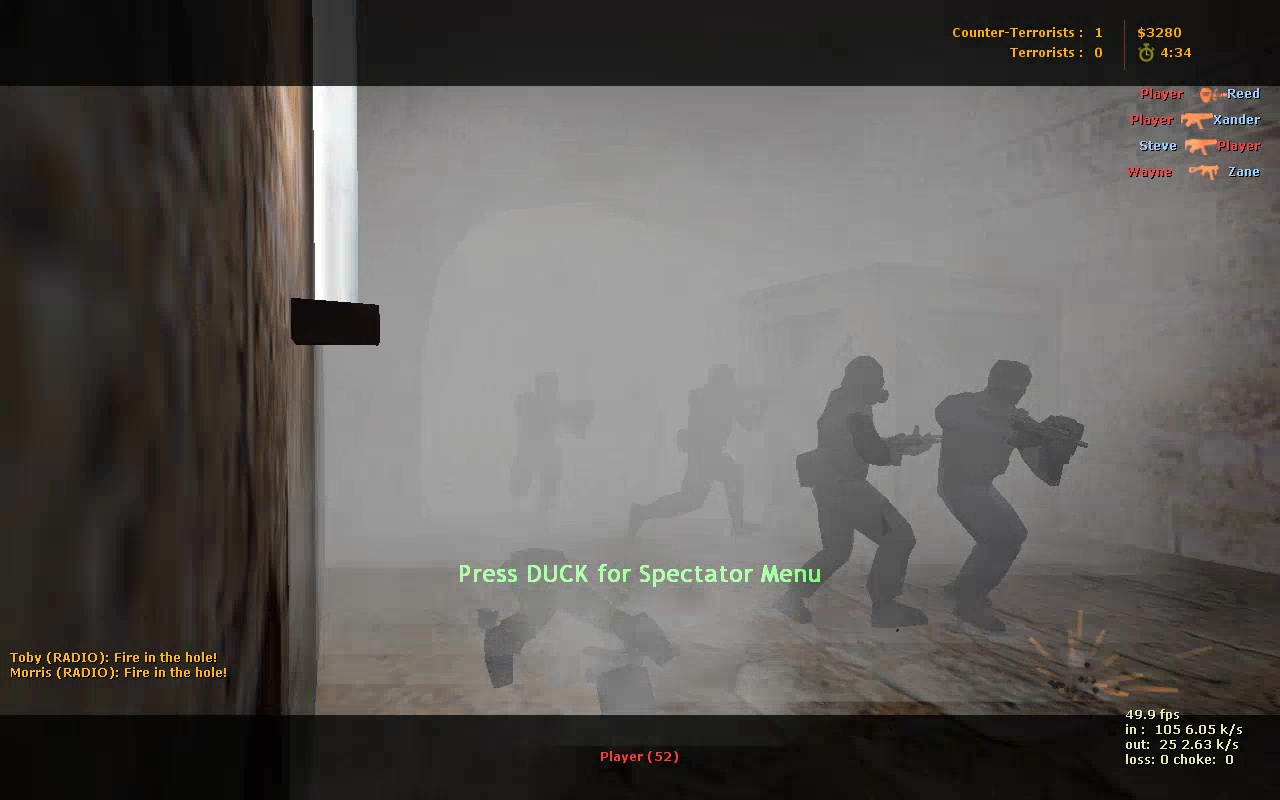ct: (778, 351, 935, 634), (936, 358, 1086, 633)
dead: (463, 547, 677, 683)
